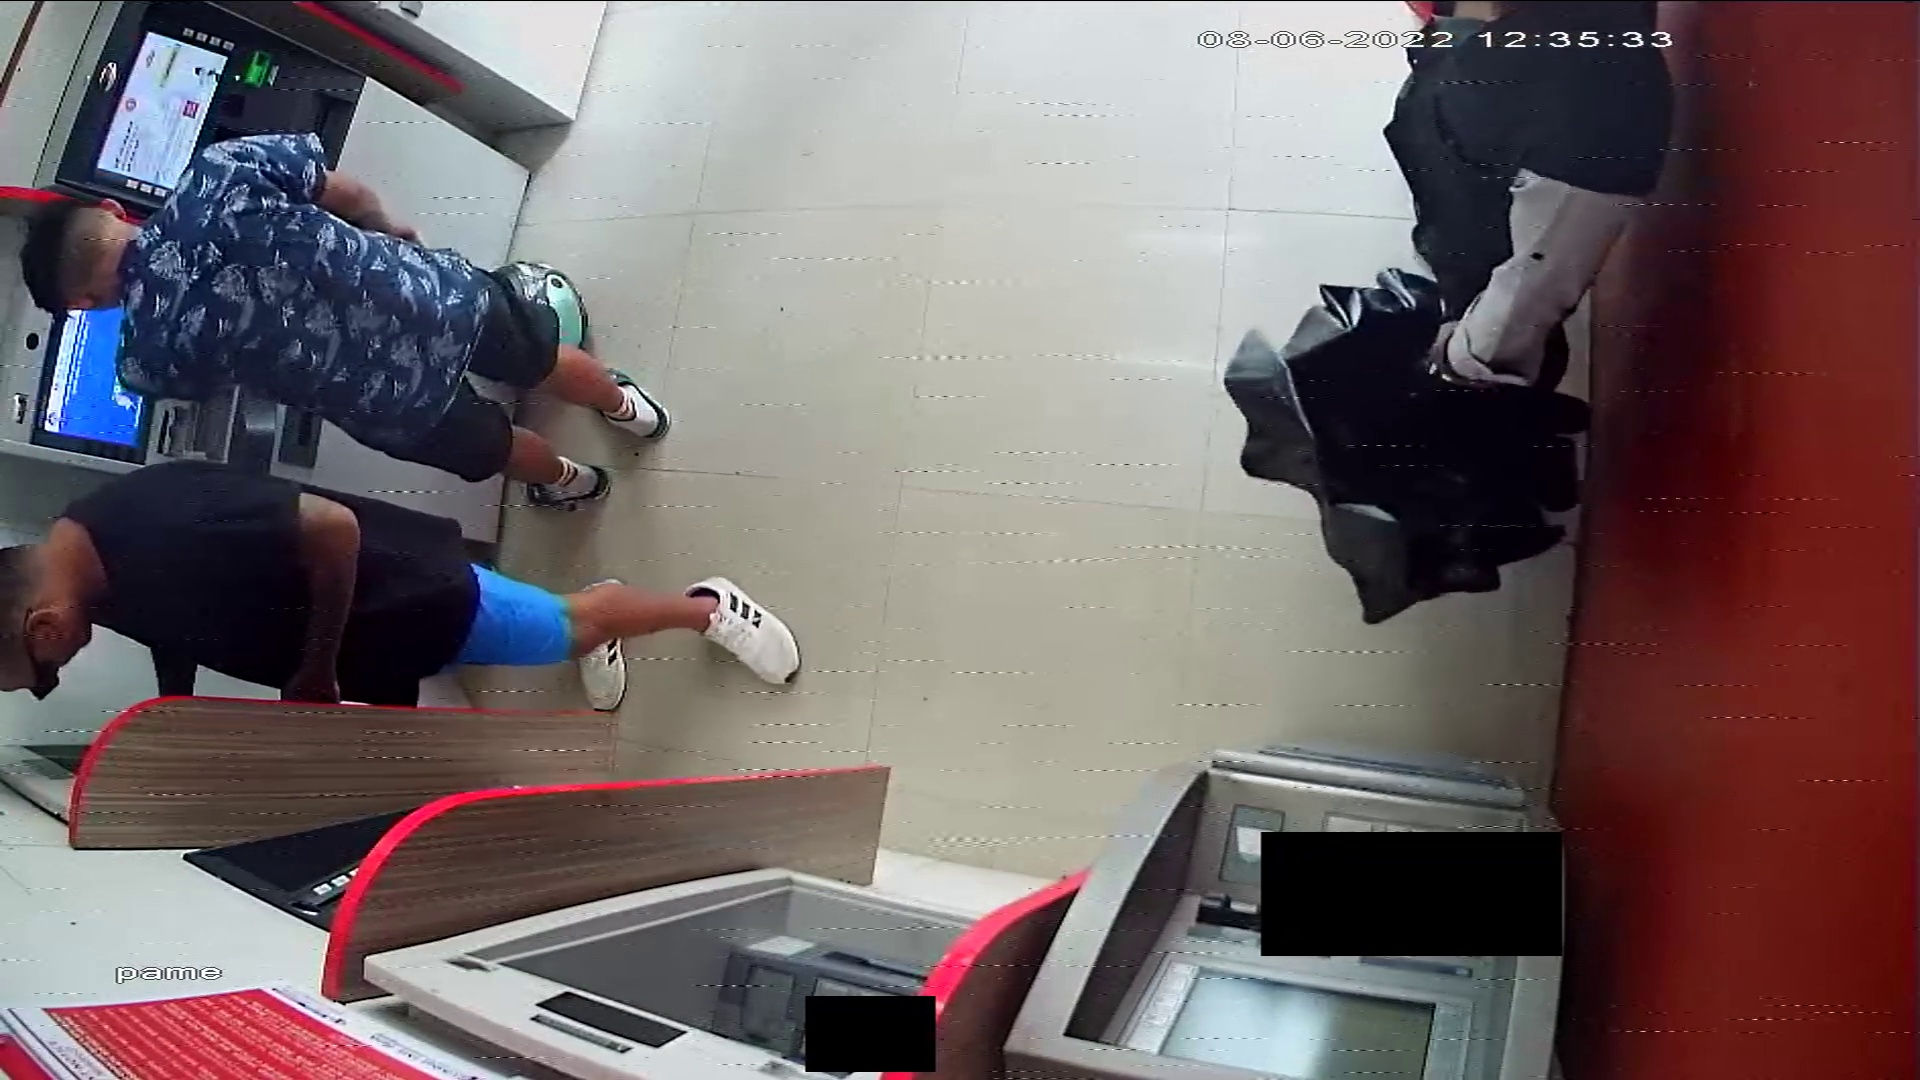helmet: (490, 258, 590, 349)
person: (17, 126, 673, 510), (1, 456, 809, 716), (1375, 1, 1671, 378)
